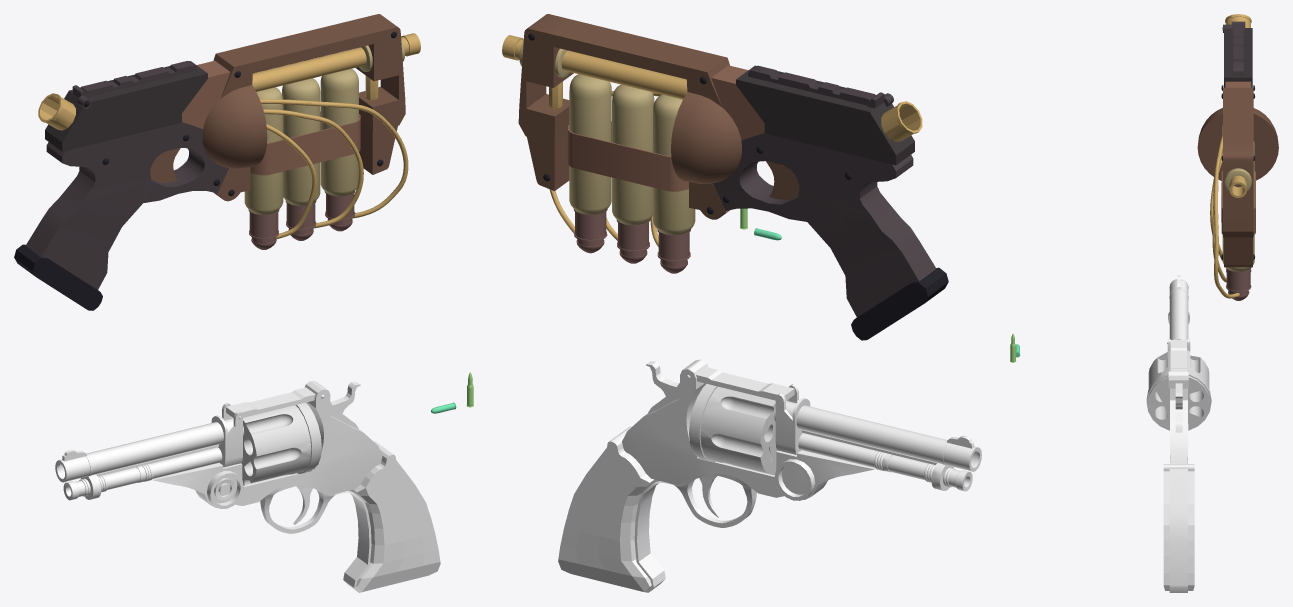
The model's file is bullet.fbx.
3 views of the same model, side by side, from view 1: azimuth 30°, elevation 25°; view 2: azimuth 150°, elevation 25°; view 3: azimuth 270°, elevation 25° (orthographic). The views are drawn at different scales.
Visible parts, largest first — view 1: weap2, wp, wp_br; view 2: weap2, wp, wp_br; view 3: weap2, wp, wp_br.
Boxes of the visible parts, box(x1,y1,x2,y2) form: weap2: box(14, 14, 420, 310); wp: box(55, 380, 440, 592); wp_br: box(231, 402, 321, 485); weap2: box(502, 14, 948, 340); wp: box(558, 359, 981, 592); wp_br: box(689, 384, 788, 475); weap2: box(1197, 14, 1278, 300); wp: box(1163, 275, 1194, 592); wp_br: box(1146, 350, 1211, 430).
Size of the model in its own units: 391 by 507 by 278.
